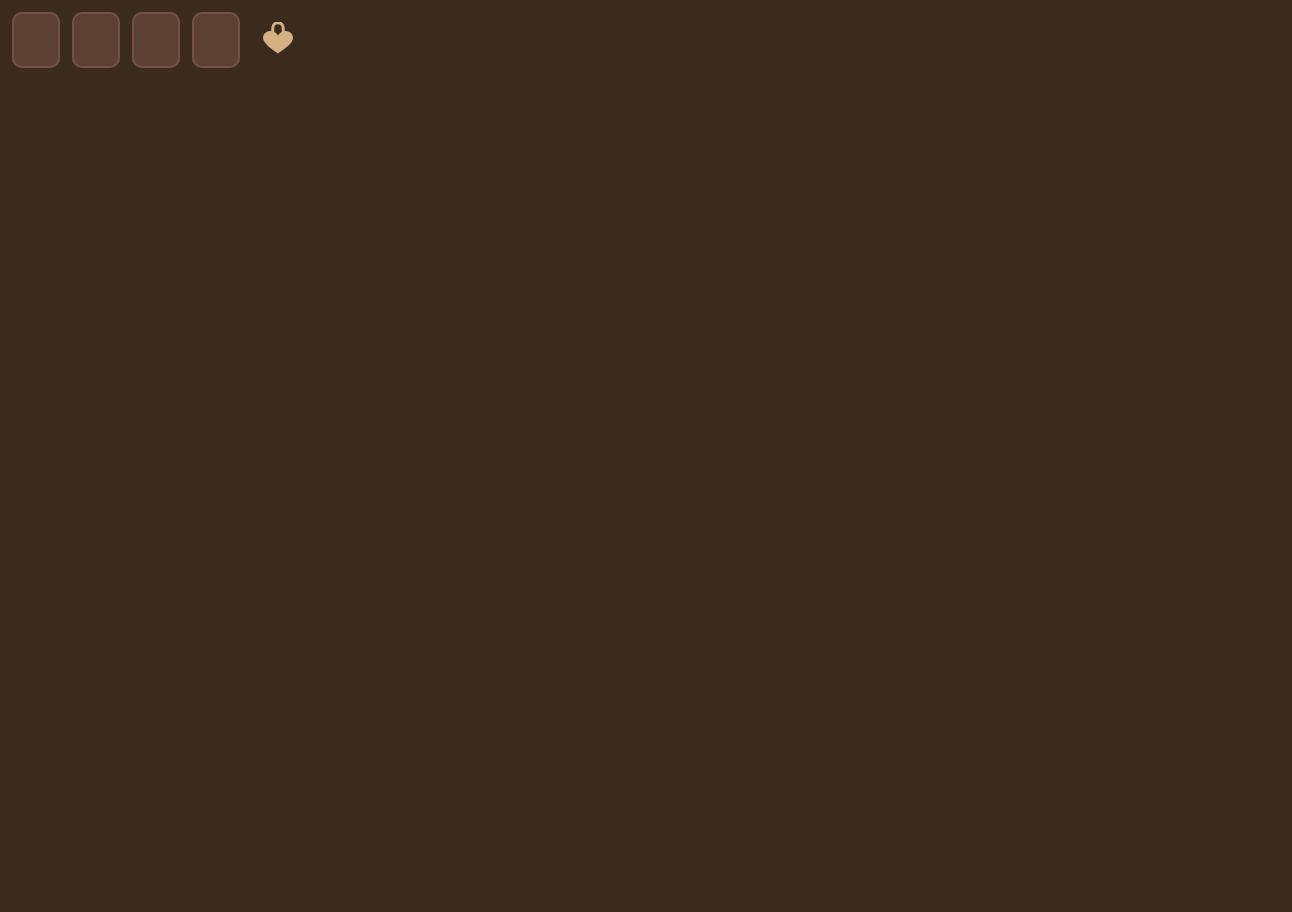
shows broken heart overlay after failed submission
The width and height of the screenshot is (1292, 912).
Type "1" into the field named "Digit 1" at (36, 40), box x1=12 y1=12 x2=60 y2=68
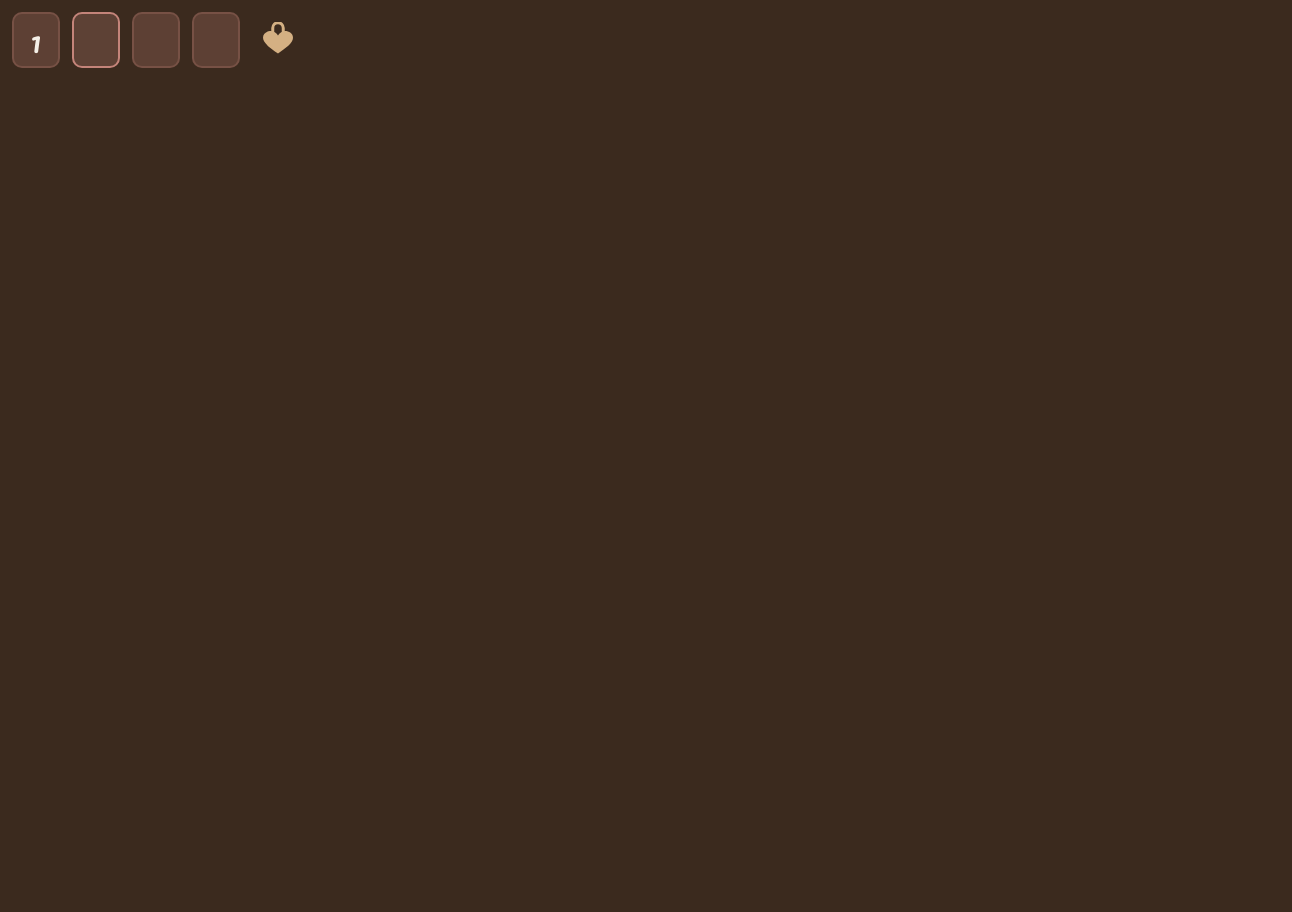
Type "4" into the field named "Digit 2" at (96, 40), box x1=72 y1=12 x2=120 y2=68
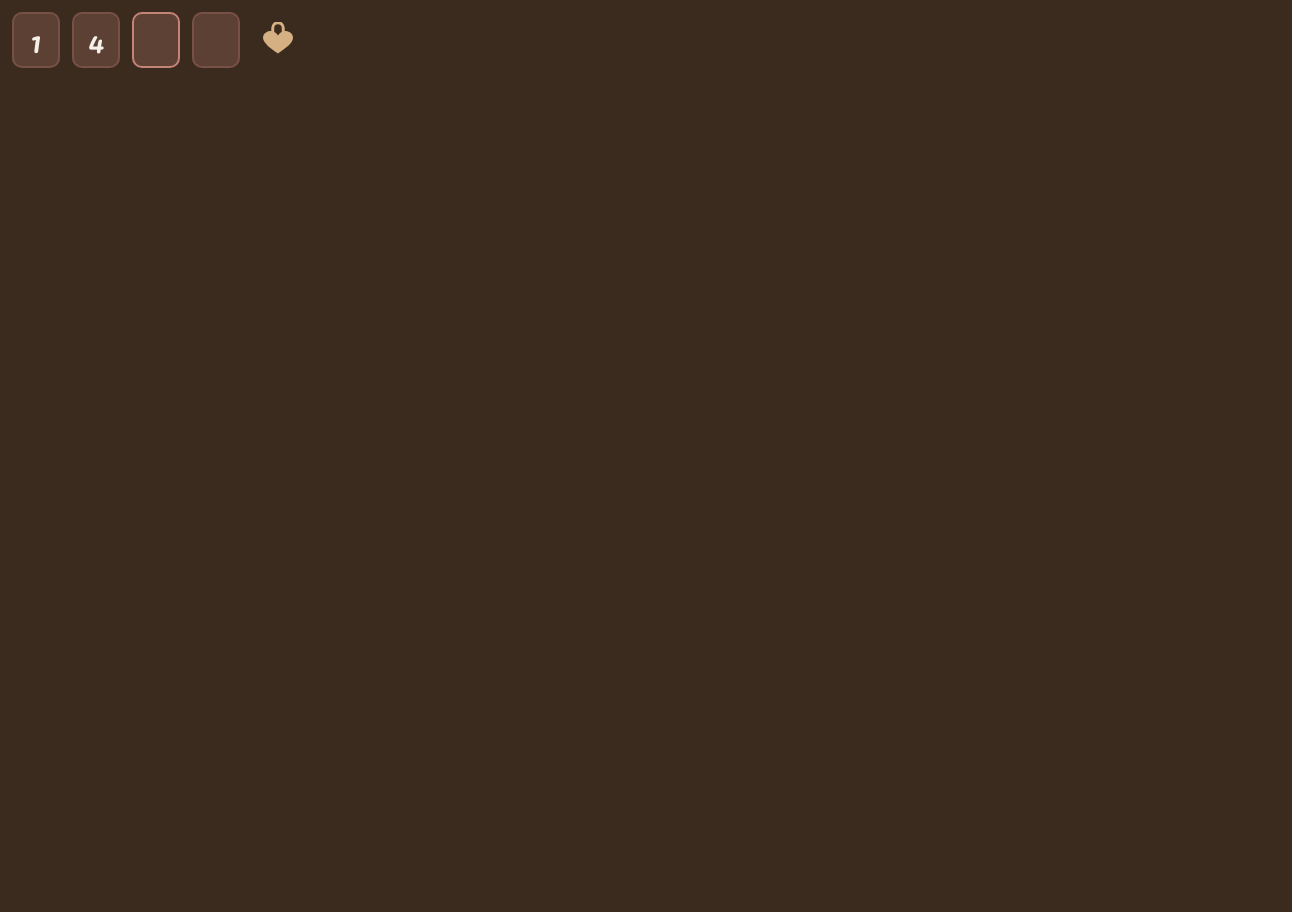
Type "8" into the field named "Digit 3" at (156, 40), box x1=132 y1=12 x2=180 y2=68
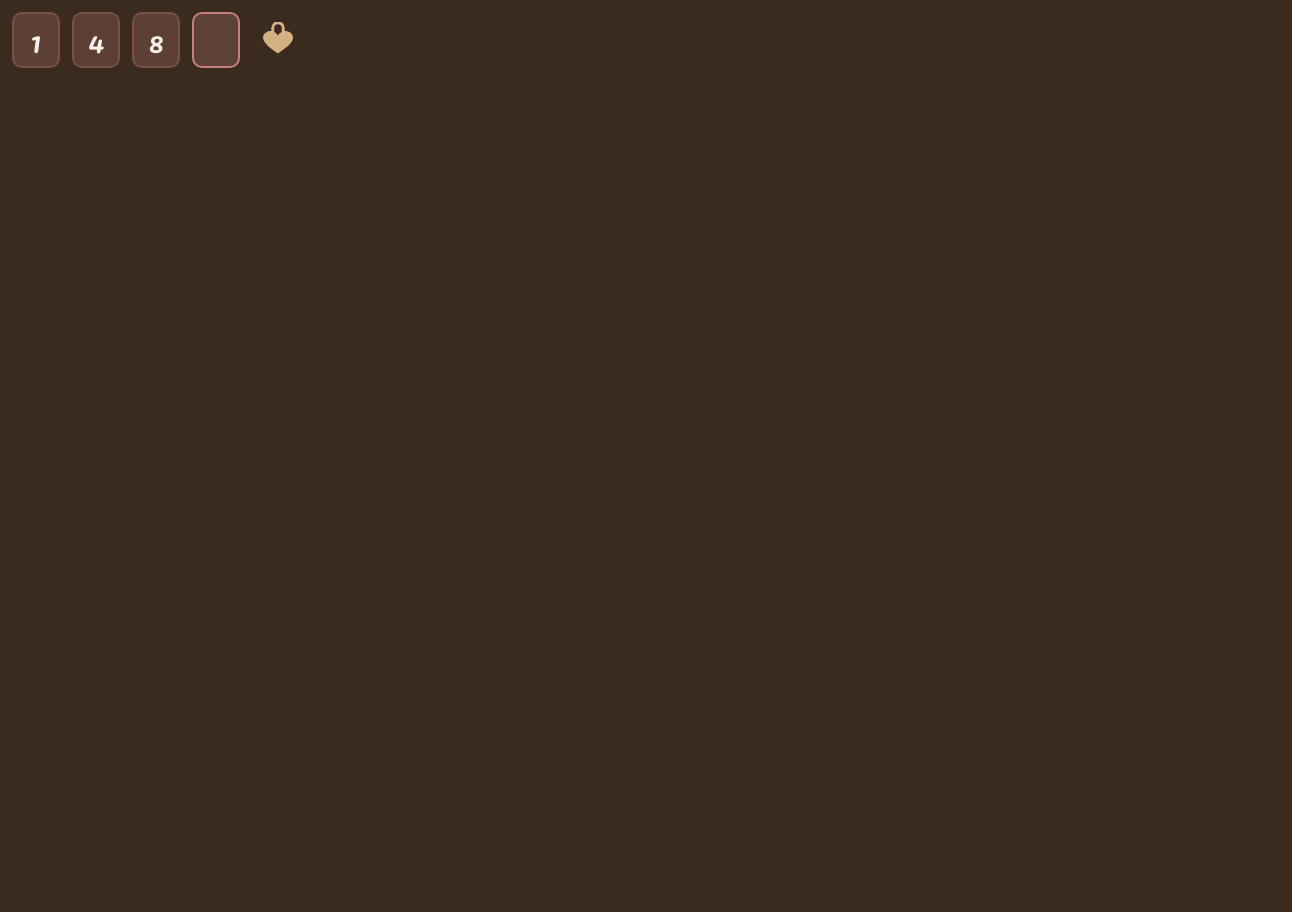
Type "9" into the field named "Digit 4" at (216, 40), box x1=192 y1=12 x2=240 y2=68
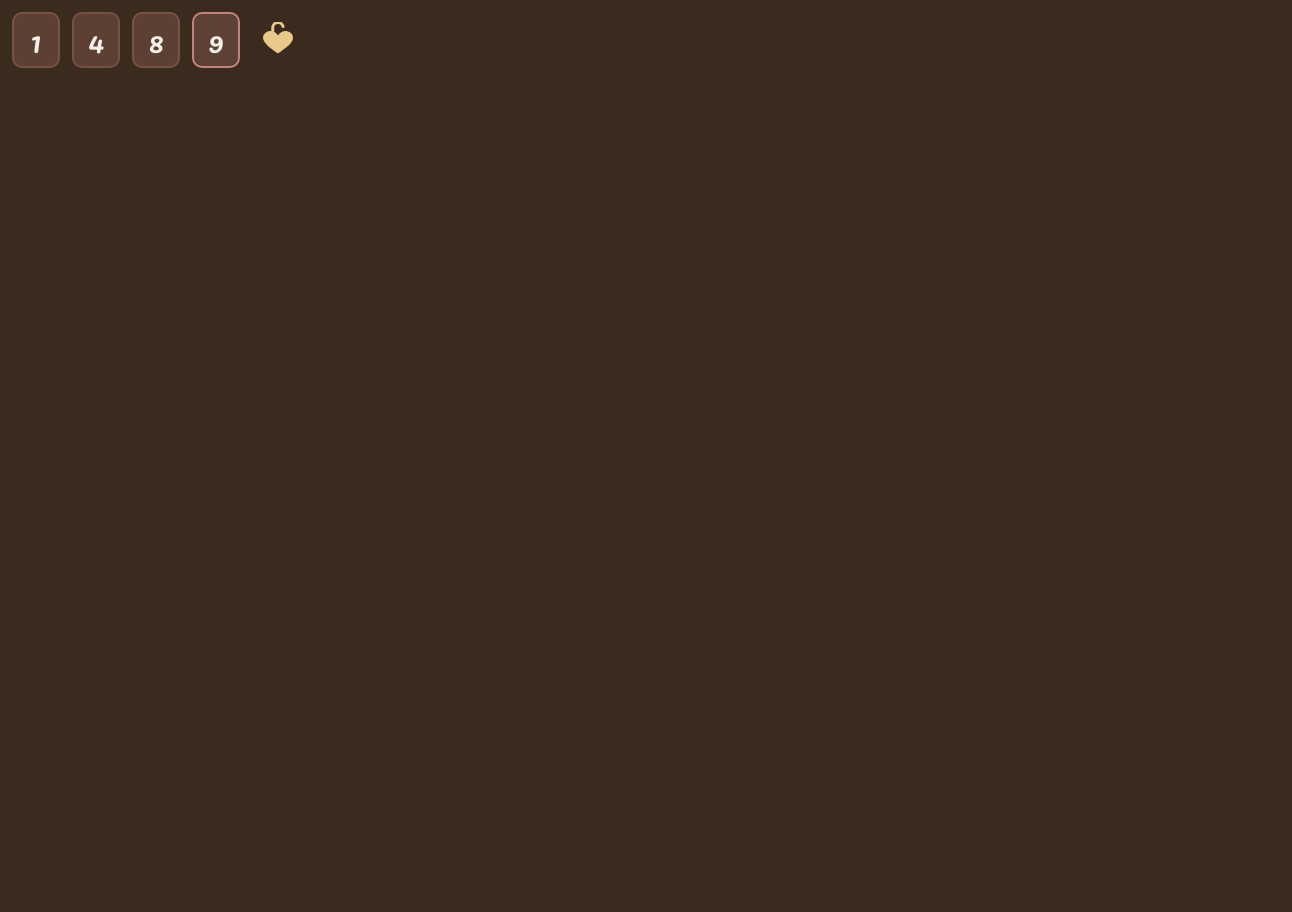
Click the button named "unlock" at (278, 40), box x1=252 y1=14 x2=304 y2=66
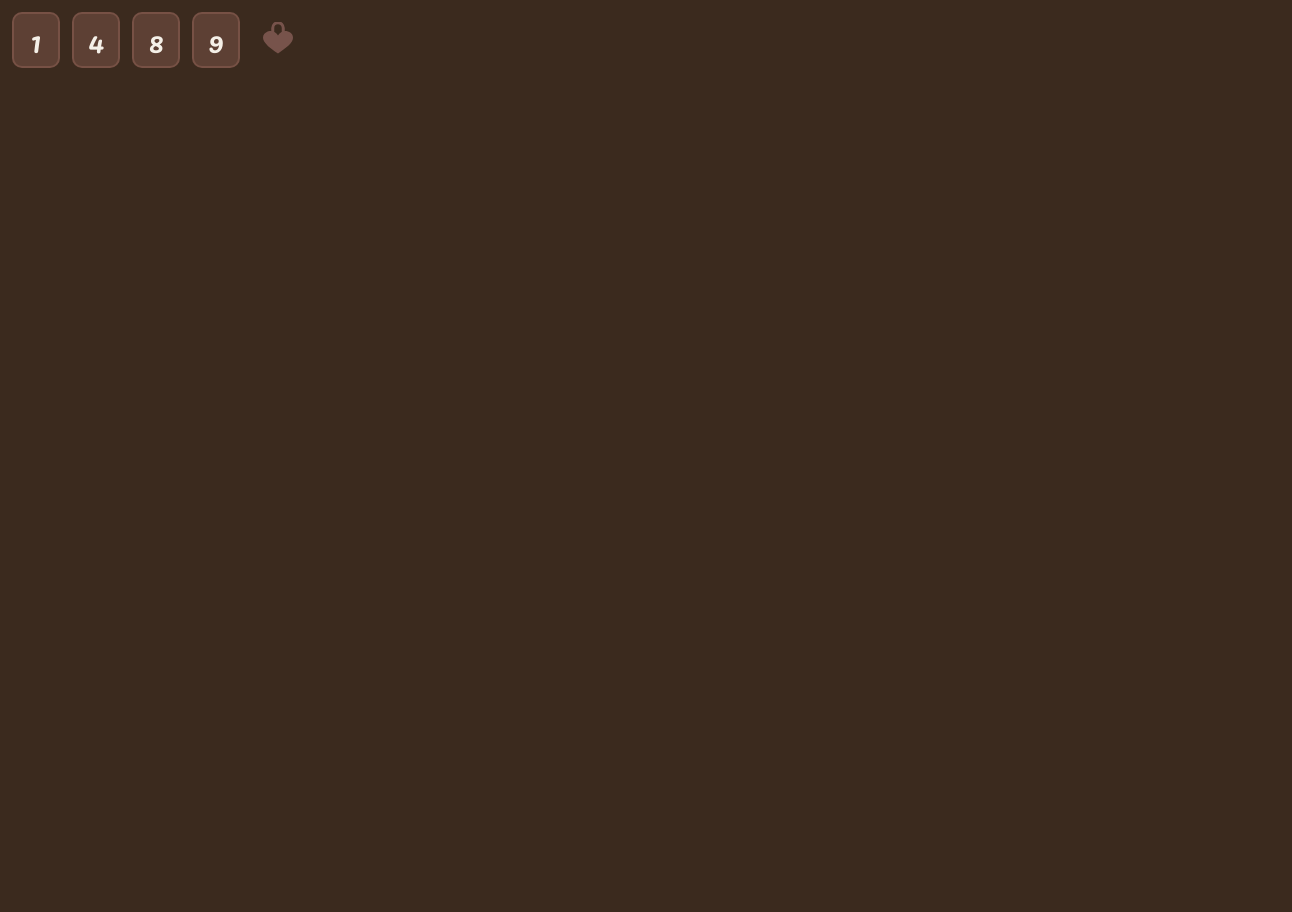
Expected: the element with test id "broken-heart" is shown
